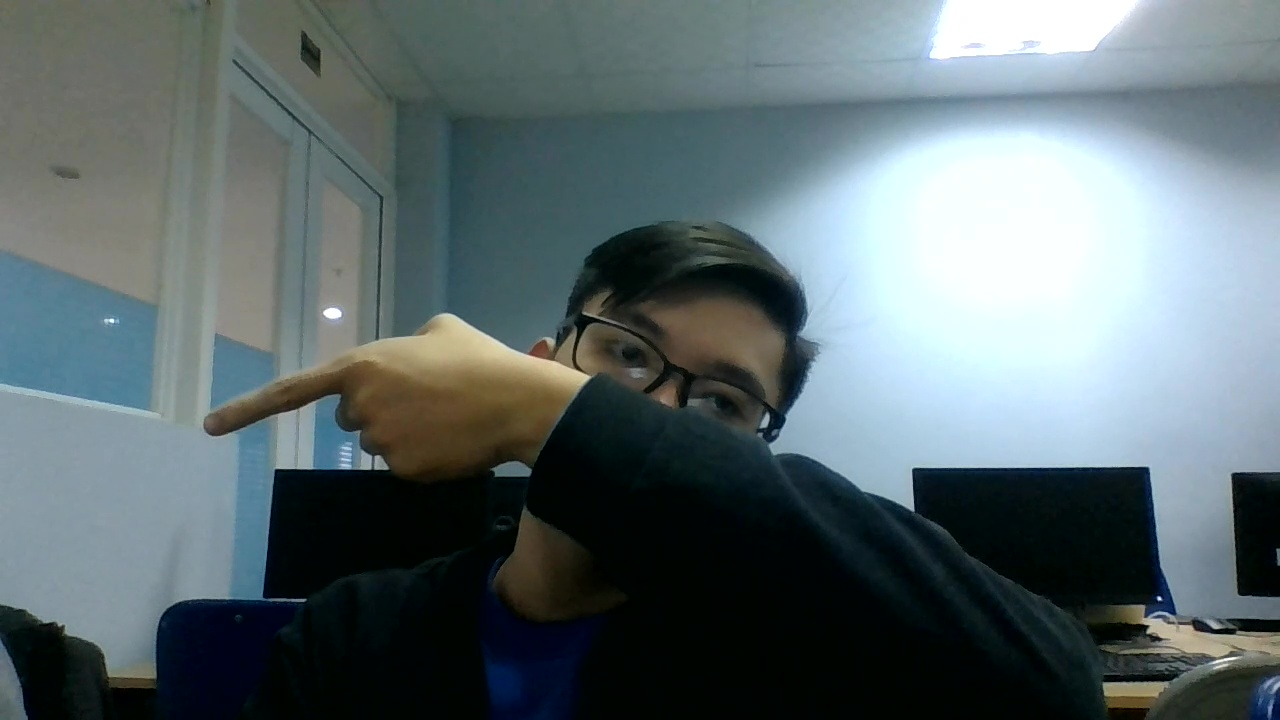right: (201, 310, 513, 505)
